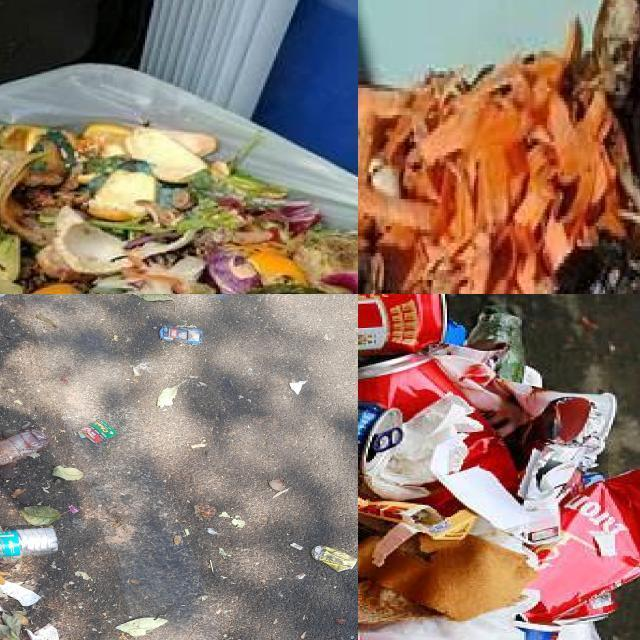Background: (0, 294, 358, 640)
Cig_bud: (289, 543, 304, 550), (190, 443, 205, 449)
Cig_pack: (159, 326, 202, 345)
Garbage: (358, 294, 640, 640), (358, 0, 640, 294), (0, 100, 358, 294)
Plastic_bottle: (0, 430, 49, 466)
Plastic_wraper: (312, 547, 357, 571), (78, 420, 117, 443), (68, 505, 79, 513)
can: (525, 470, 640, 623), (358, 354, 464, 420), (462, 411, 520, 494)
